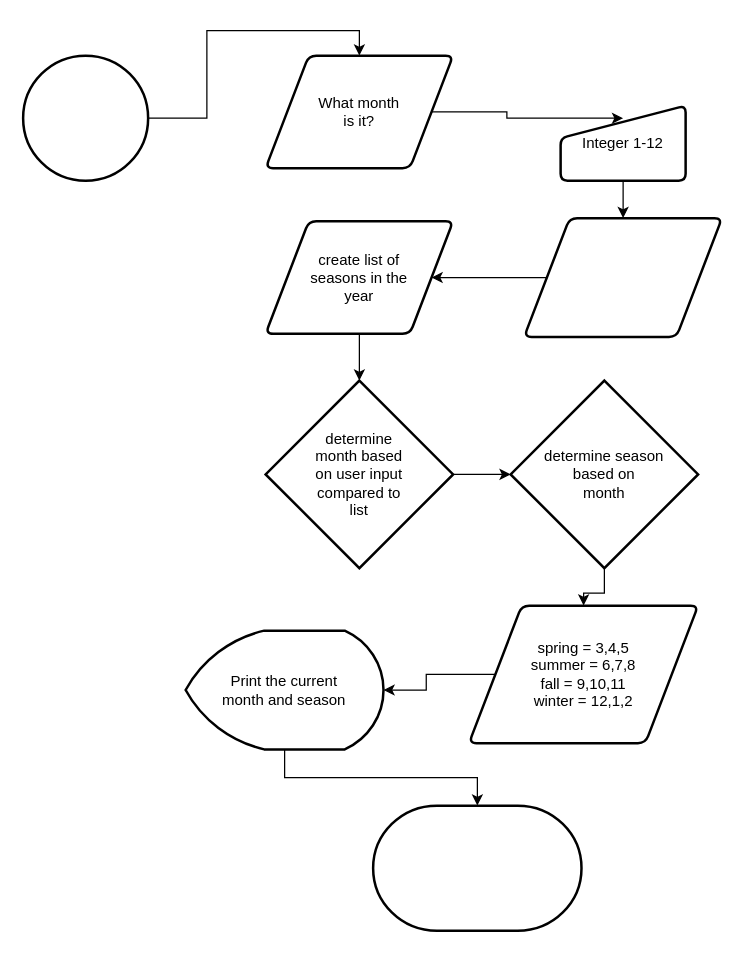
Some shapes in this 745 by 954 pixel diagram are drawn without their labels. Each missing label, with the centre of its shape:
create list of months in the year: pixel 622 277
End: pixel 476 867
Start: pixel 85 117
